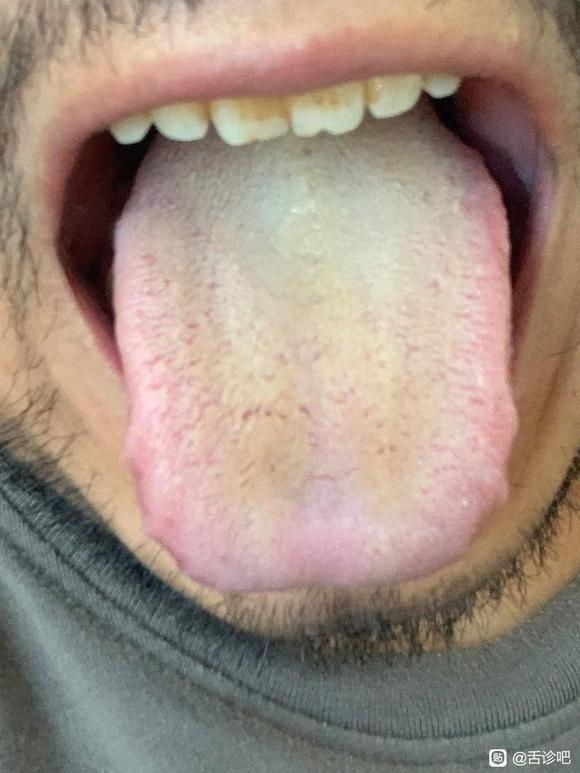chihenshe: (114, 344, 187, 573), (461, 419, 519, 552)
huangtaishe: (111, 103, 519, 592)
